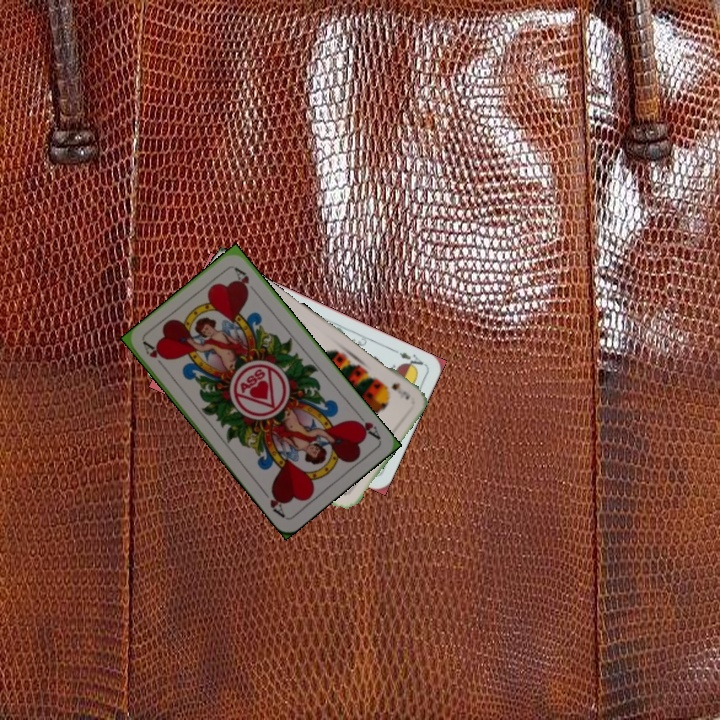EA: (389, 345, 427, 372)
HA: (350, 408, 383, 442), (139, 338, 170, 373)
S9: (388, 379, 413, 402)
